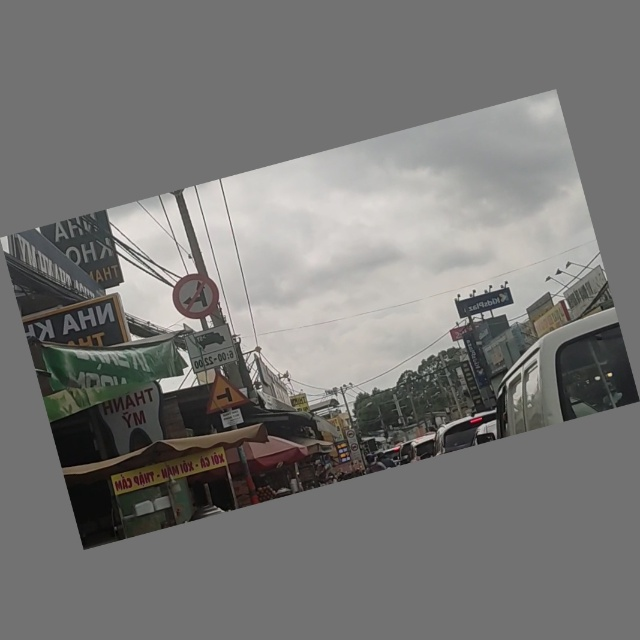P.139: (169, 270, 224, 325)
S.505a*Xe tai: (183, 324, 238, 371)
W.205b: (196, 366, 251, 414)
